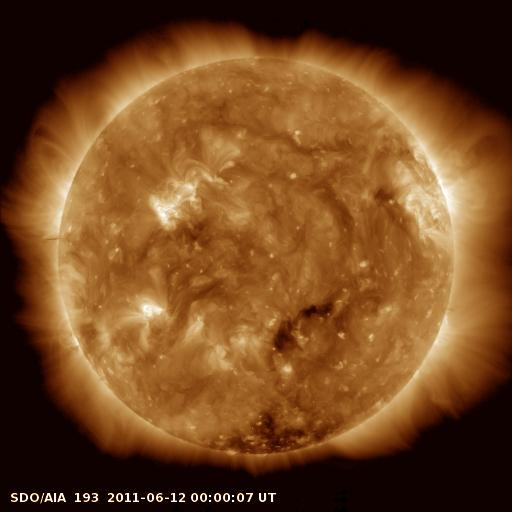coronal_hole: (210, 405, 337, 455), (265, 302, 331, 355)
